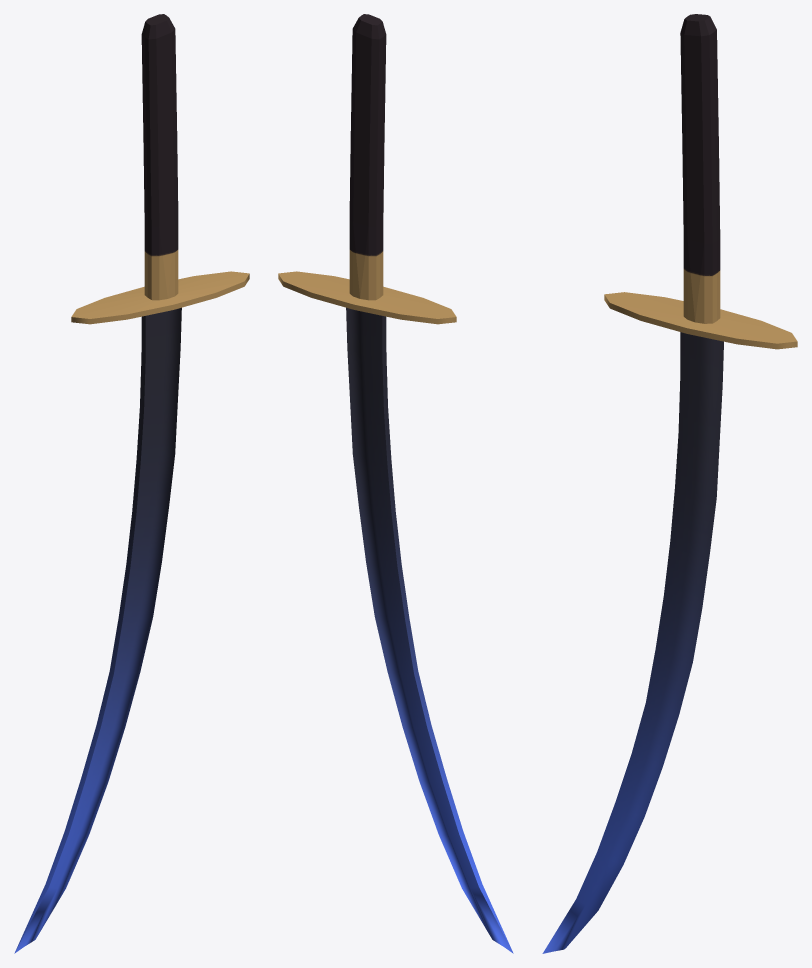
The model's file is sword.FBX.
3 views of the same model, side by side, from view 1: azimuth 30°, elevation 25°; view 2: azimuth 150°, elevation 25°; view 3: azimuth 330°, elevation 25° (orthographic). The views are drawn at different scales.
Parts seen in each view (by area): view 1: sword001; view 2: sword001; view 3: sword001.
Boxes of the visible parts, left/top/right/bottom form: sword001: left=14, top=14, right=249, bottom=953; sword001: left=278, top=14, right=513, bottom=953; sword001: left=542, top=14, right=797, bottom=953.
Bounding box in the file's own units: 28.48 × 104 × 5.41.
Materials: 1 (1 with a texture image).
